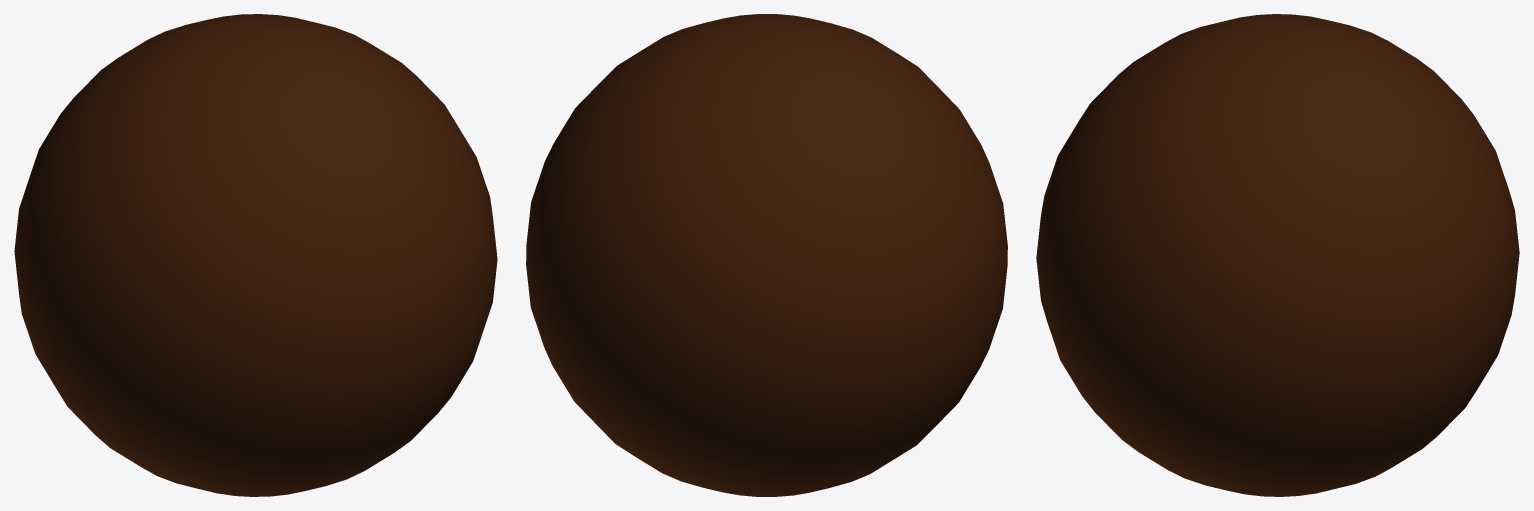
Rendered from ferreroroshe.glb.
3 renders of one model, left to right at view 1: azimuth 30°, elevation 25°; view 2: azimuth 150°, elevation 25°; view 3: azimuth 270°, elevation 25°, orthographic.
Parts seen in each view (by area): view 1: Combo Chocolate; view 2: Combo Chocolate; view 3: Combo Chocolate.
Boxes of the visible parts, x1,y1,x2,y2 form: Combo Chocolate: (14, 14, 497, 496); Combo Chocolate: (526, 14, 1007, 496); Combo Chocolate: (1036, 14, 1519, 496).
Bounding box in the file's own units: 1.78 × 1.78 × 1.78.
